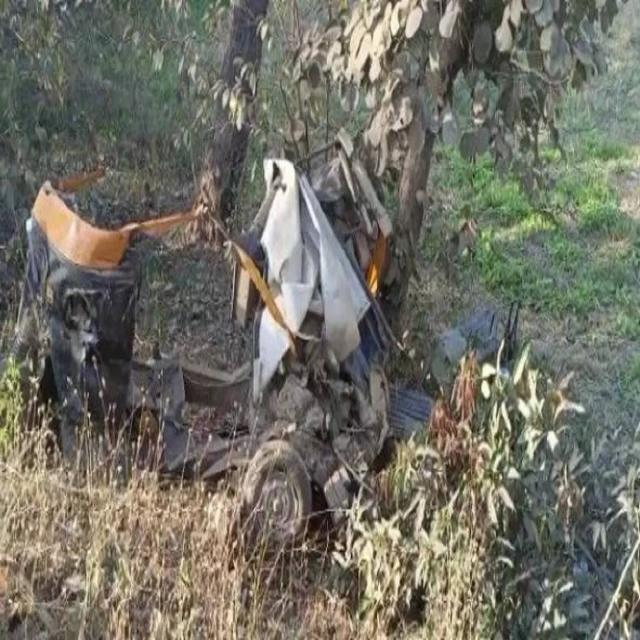accident: (16, 131, 392, 547)
